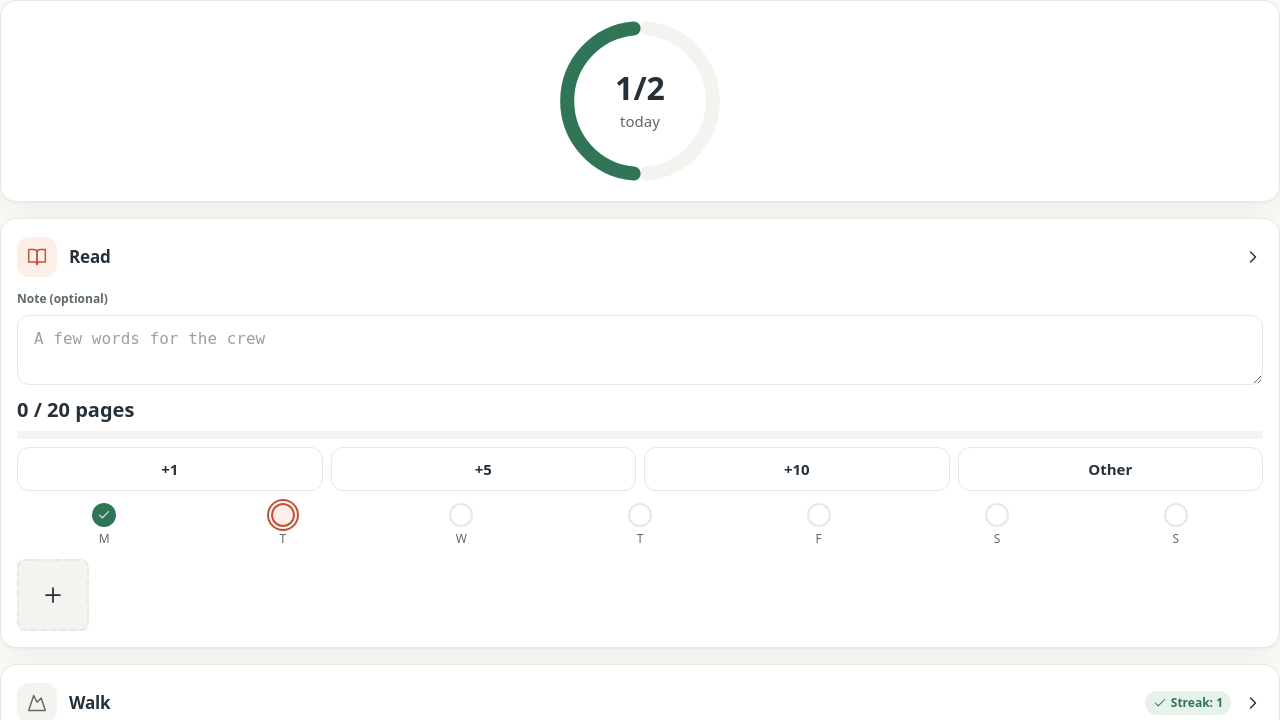
Test: today › keeps the note when the first number fails, and has none once checked in
The image size is (1280, 720).
In the text box labelled "Note (optional)": coordinates (640, 350) [17,315,1263,385], type "First pages"
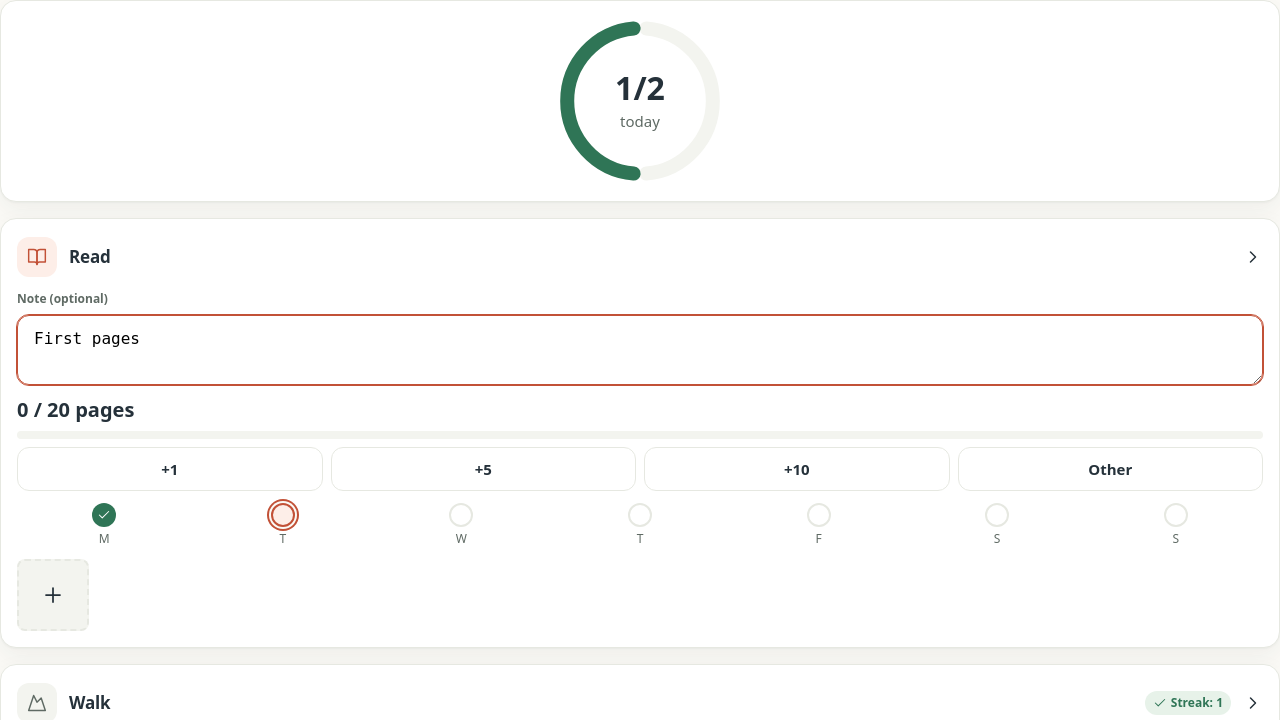
Click the button "+5": coordinates (483, 469) [330,447,636,491]
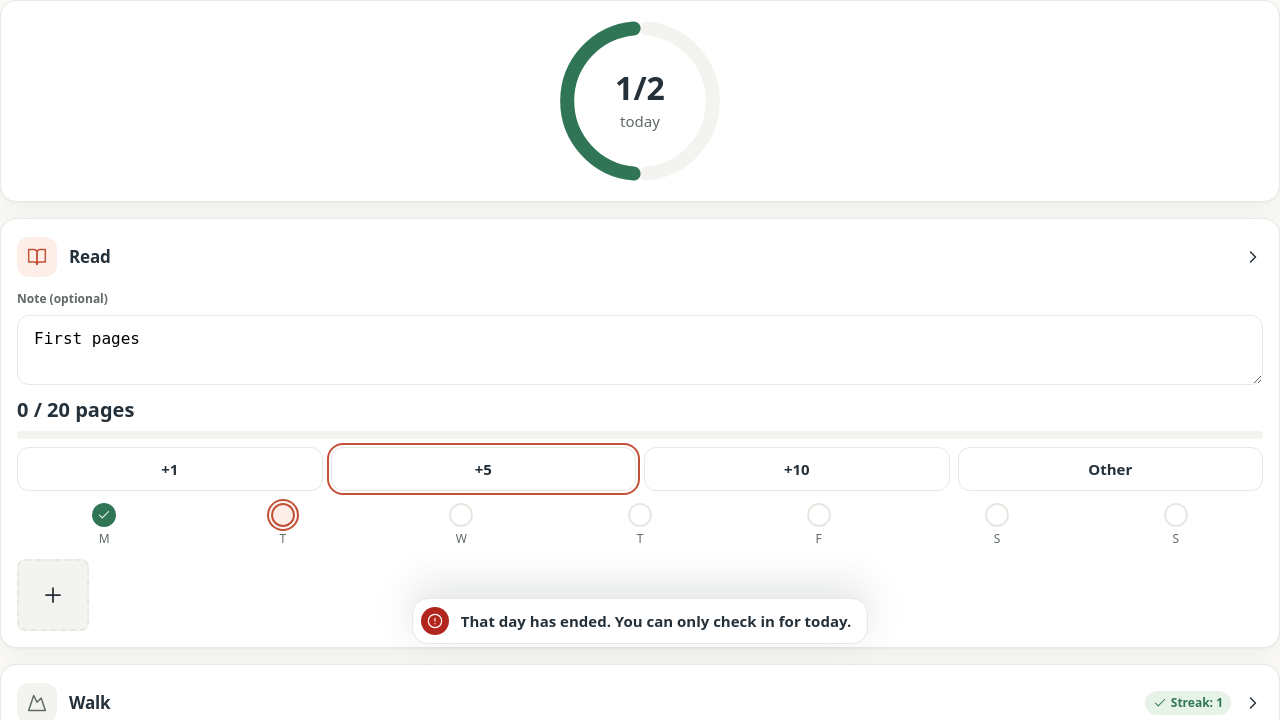
Now the text "That day has ended. You can only check in for today." is shown, box [412,598,868,644]
